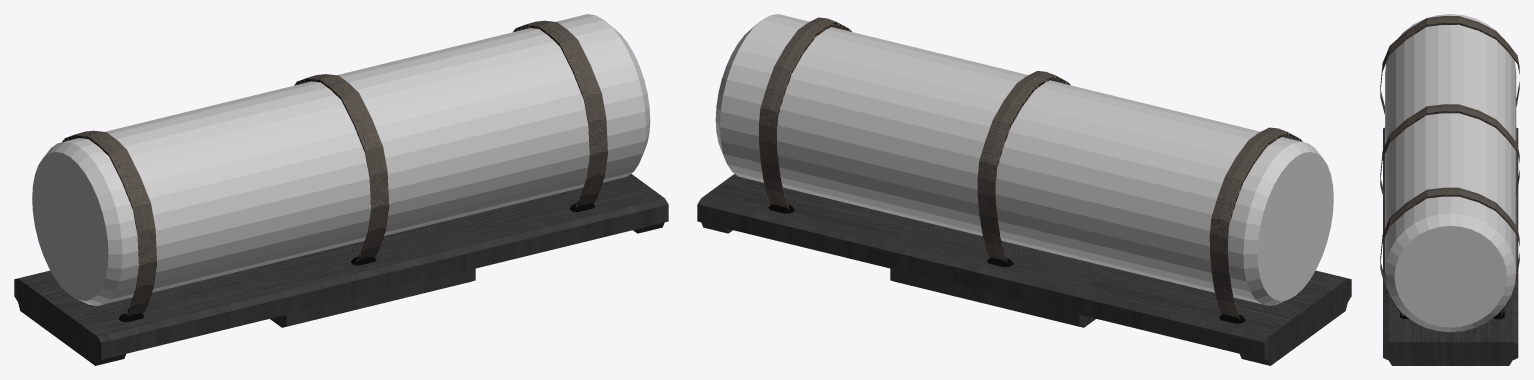
Rendered from tanker.fbx.
3 views of the same model, side by side, from view 1: azimuth 30°, elevation 25°; view 2: azimuth 150°, elevation 25°; view 3: azimuth 270°, elevation 25° (orthographic). The views are drawn at different scales.
Parts seen in each view (by area): view 1: tanker; view 2: tanker; view 3: tanker.
Boxes of the visible parts, box(x1,y1,x2,y2) form: tanker: box(14, 14, 668, 365); tanker: box(697, 14, 1351, 365); tanker: box(1380, 14, 1519, 365).
Size of the model in its own units: 51.91 by 17.51 by 14.18.
